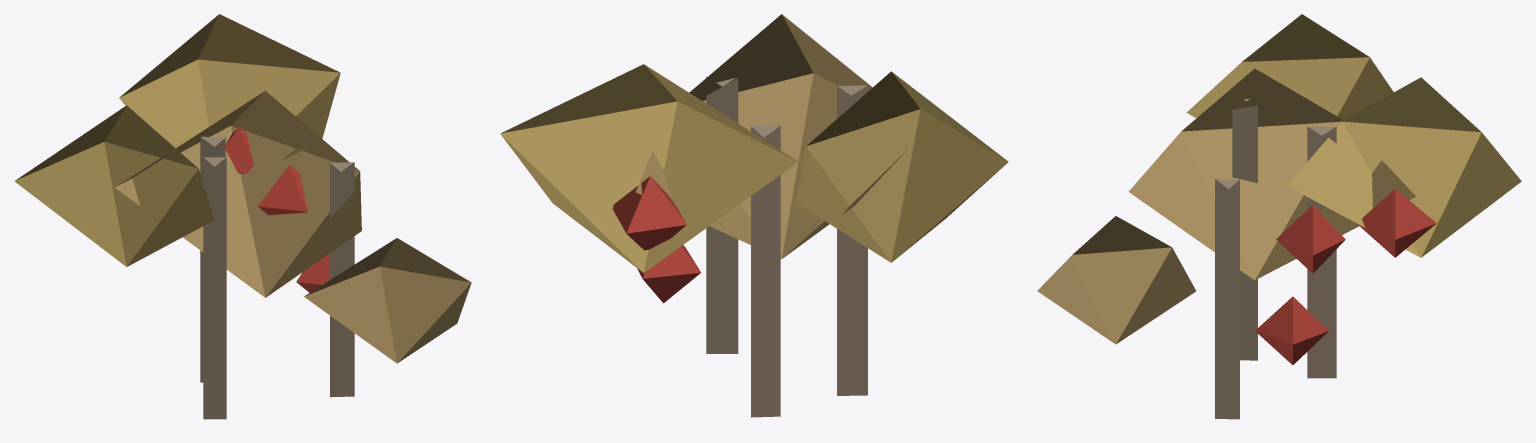
File: shrub.temp.bush__autumn.glb
3 views of the same model, side by side, from view 1: azimuth 30°, elevation 25°; view 2: azimuth 150°, elevation 25°; view 3: azimuth 270°, elevation 25° (orthographic). The views are drawn at different scales.
Visible parts, largest first — view 1: shrub.temp.bush__autumn; view 2: shrub.temp.bush__autumn; view 3: shrub.temp.bush__autumn.
Boxes of the visible parts, box(x1,y1,x2,y2) form: shrub.temp.bush__autumn: box(14, 14, 471, 419); shrub.temp.bush__autumn: box(500, 14, 1008, 417); shrub.temp.bush__autumn: box(1037, 14, 1521, 419).
Bounding box in the file's own units: 1.94 × 1.71 × 2.27.
